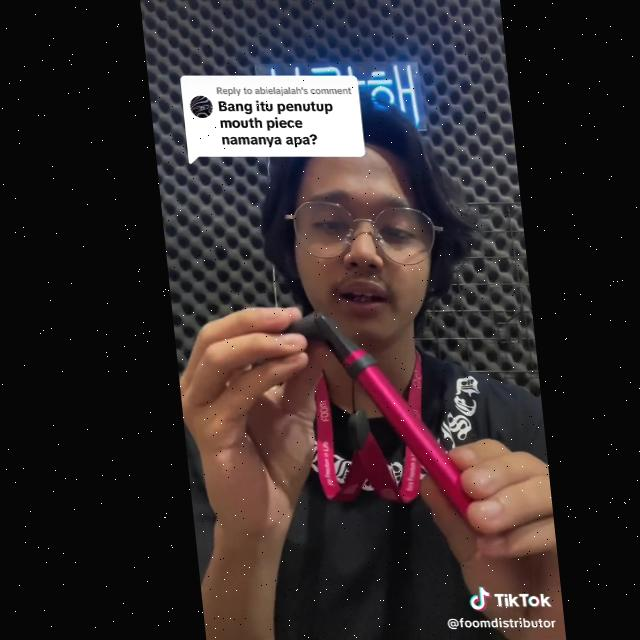vape: (302, 312, 483, 532)
